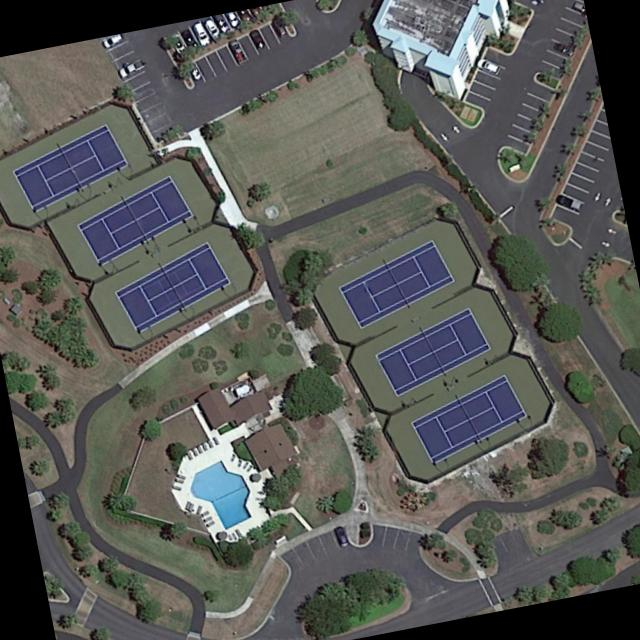small-vehicle: (118, 58, 147, 78), (227, 38, 248, 65), (554, 194, 584, 212), (192, 21, 212, 46), (270, 13, 290, 37), (181, 27, 200, 52), (170, 34, 189, 58), (202, 18, 223, 39), (476, 57, 500, 75), (551, 40, 576, 57), (249, 27, 268, 49), (185, 59, 203, 80), (335, 524, 349, 546)
